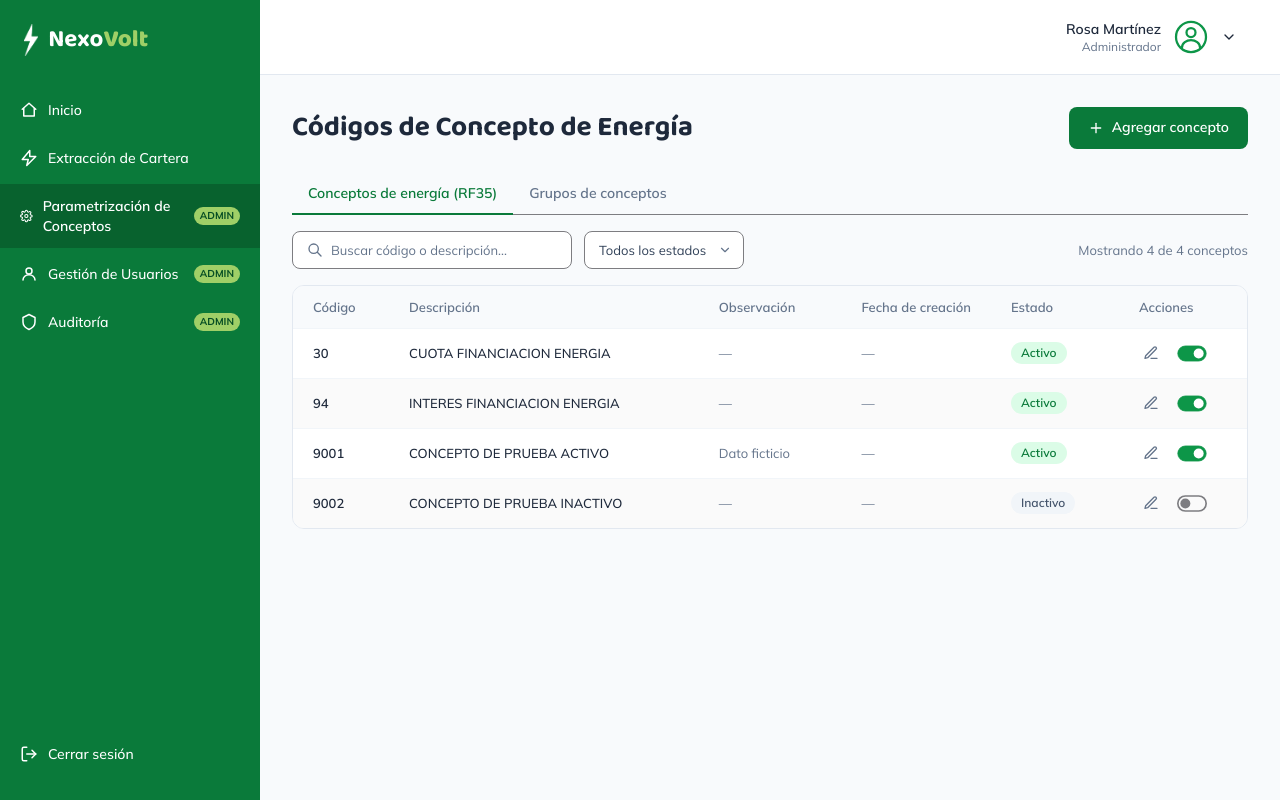
it: pantalla de parametrización (RF35) › editar concepto carga datos, no permite cambiar código y guarda cambios
expect the text "CUOTA FINANCIACION ENERGIA" is shown: met, box x1=389 y1=328 x2=699 y2=378
Click the button named "Editar concepto 94".
click(1151, 403)  # box x1=1139 y1=391 x2=1163 y2=415
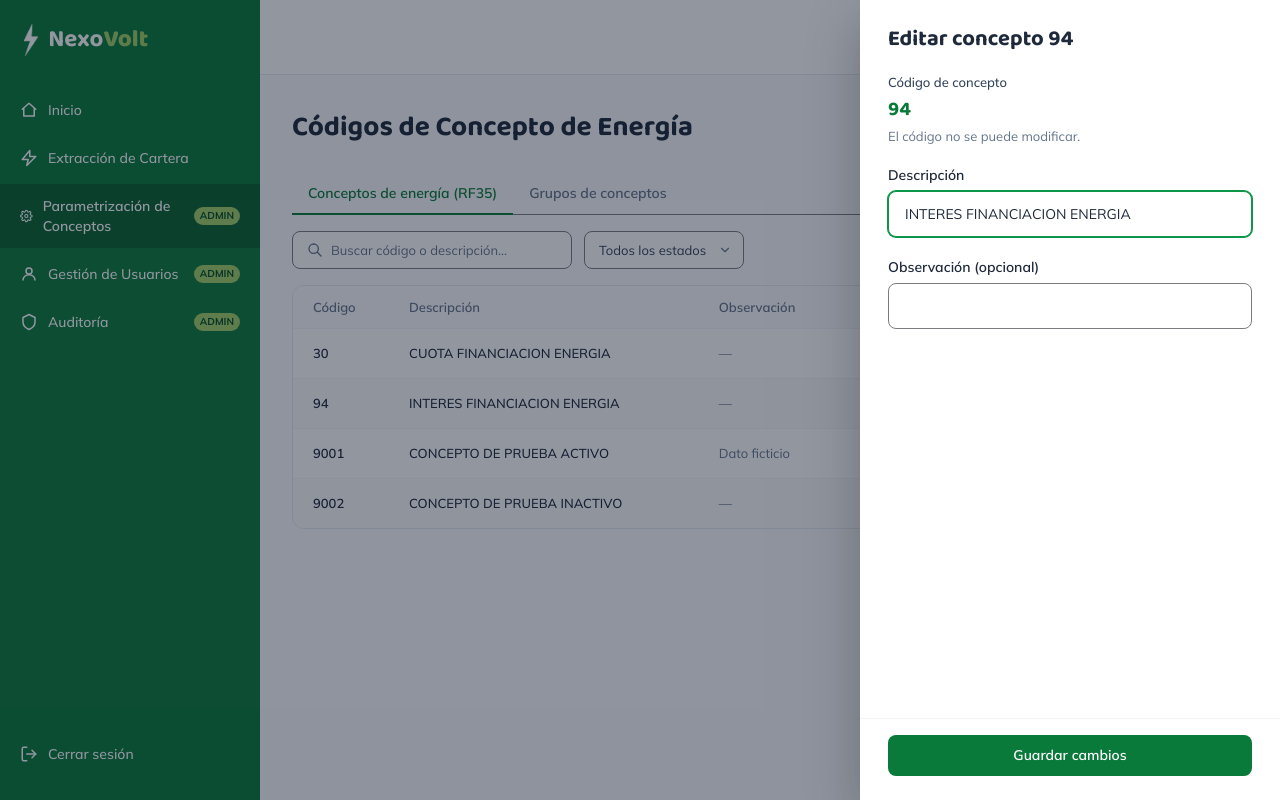
expect the text "94" is shown: met, box x1=888 y1=93 x2=911 y2=125
expect the text "El código no se puede modificar." is shown: met, box x1=888 y1=128 x2=1080 y2=144
Replace the text in the field labelled "Descripción" with "INTERES FINANCIACION MODIFICADO" at [1070, 214], box x1=888 y1=191 x2=1252 y2=237
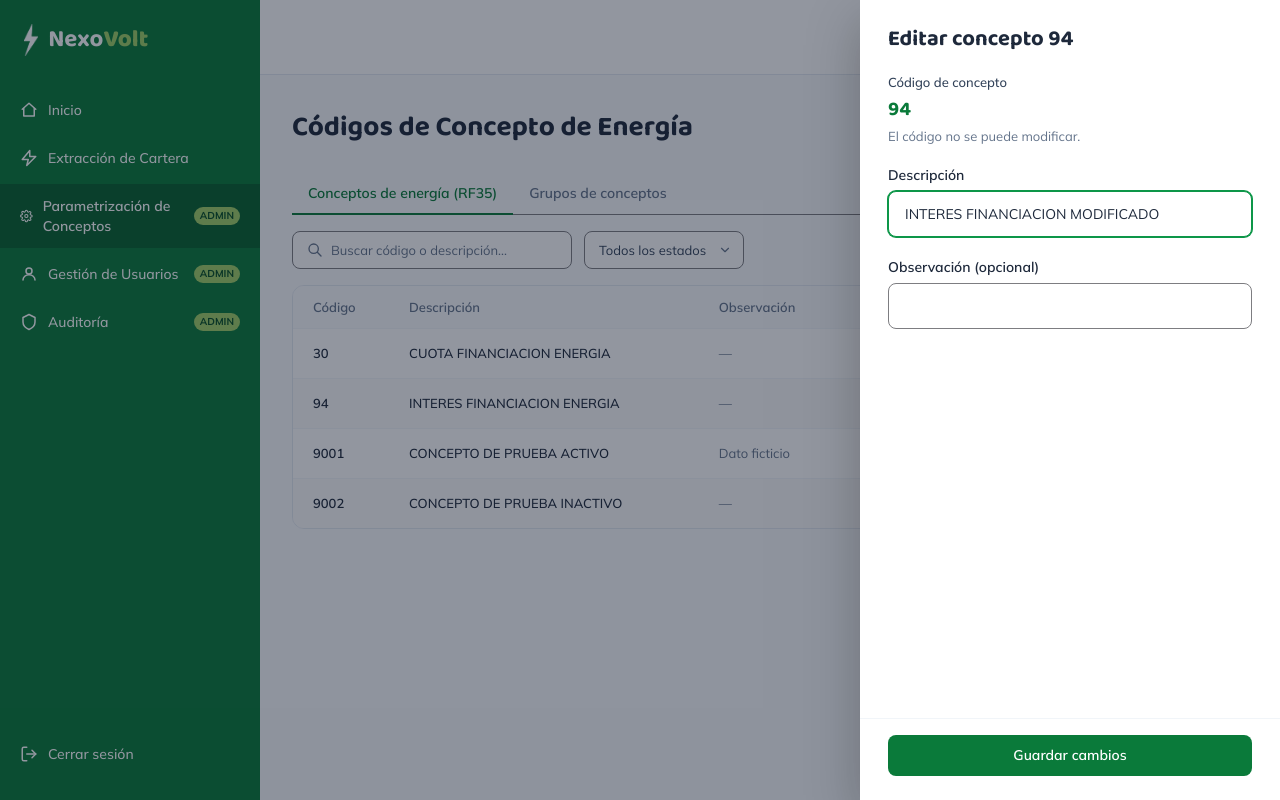
Click the button "Guardar cambios".
click(1070, 755)  # box x1=888 y1=734 x2=1252 y2=776
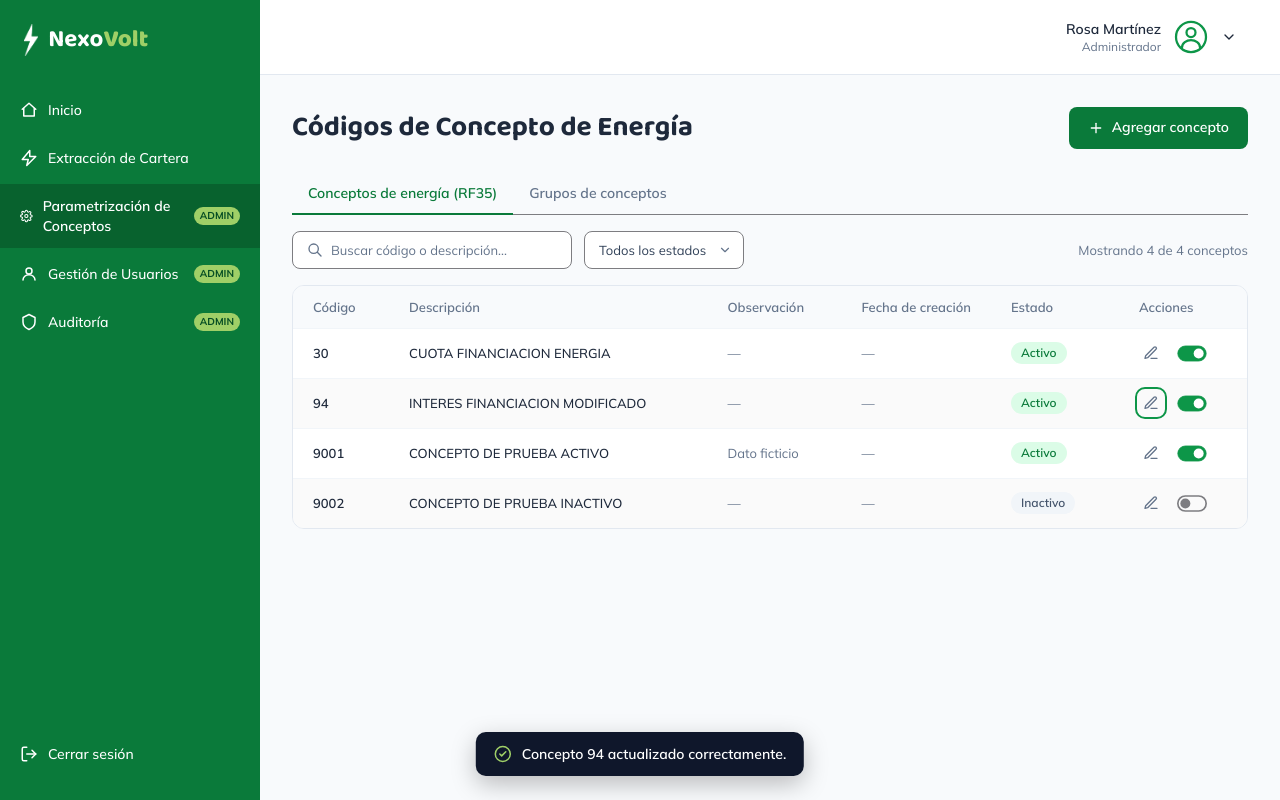
expect the text "INTERES FINANCIACION MODIFICADO" is shown: met, box x1=389 y1=378 x2=708 y2=428
